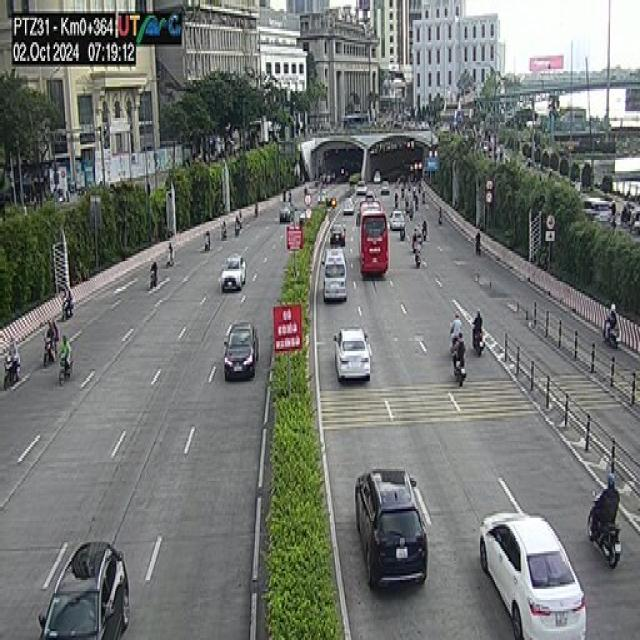bus: (358, 198, 388, 276)
car: (479, 511, 586, 638), (353, 467, 428, 589), (38, 540, 128, 638), (332, 324, 372, 382), (222, 320, 258, 380), (219, 253, 246, 291)
motorcycle: (586, 489, 622, 567), (450, 338, 466, 387), (470, 320, 484, 356), (58, 354, 72, 384)
person: (602, 302, 616, 342), (448, 311, 462, 347), (472, 309, 482, 347), (150, 260, 158, 287), (475, 229, 480, 253), (168, 240, 172, 264)
